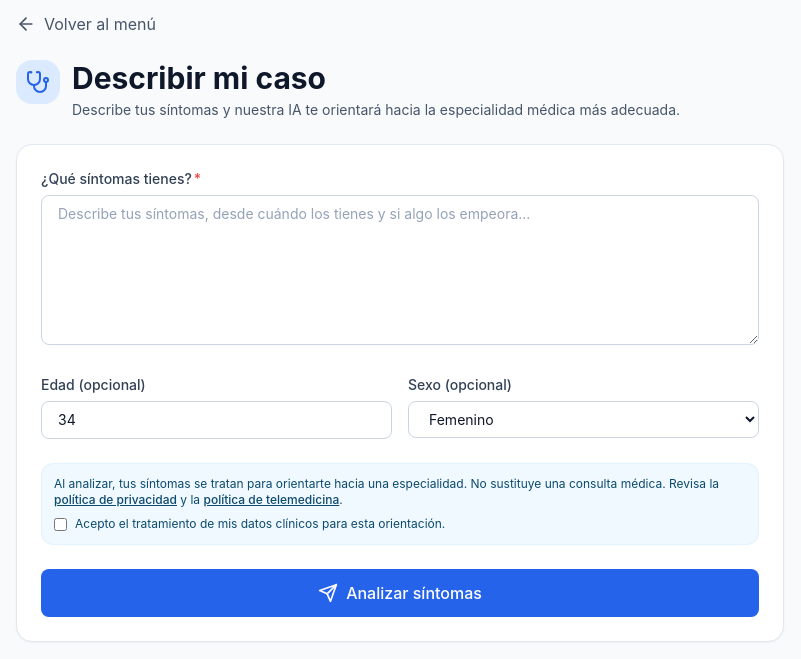
it: Triage › envía los síntomas junto con edad y sexo del perfil
Expected: the number field labelled "Edad (opcional)" holds "34", [41,401,392,439]
Type "Me duele el pecho al respirar" into the text box labelled "¿Qué síntomas tienes?*" at (400, 270), box [41,195,759,345]
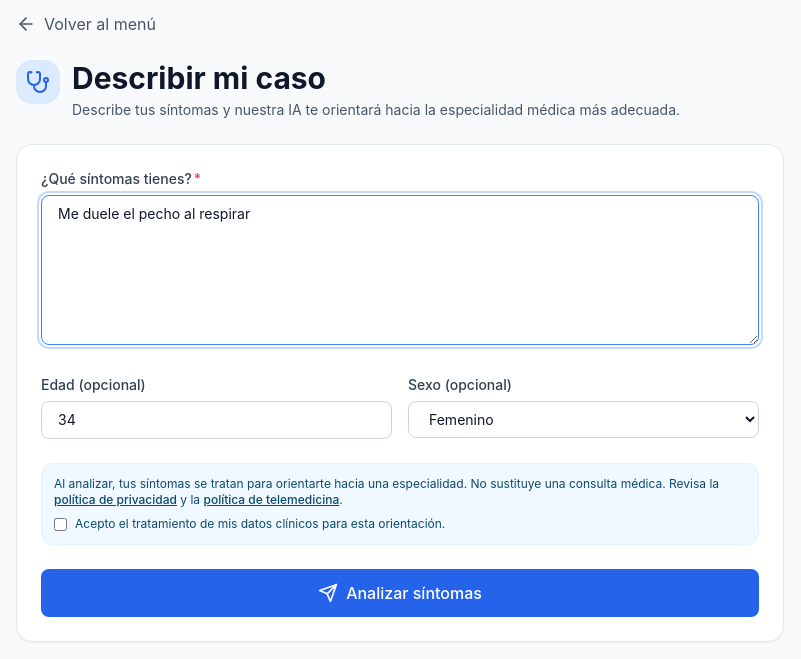
Click the checkbox labelled "datos clínicos" at (60, 524), box [54,518,67,531]
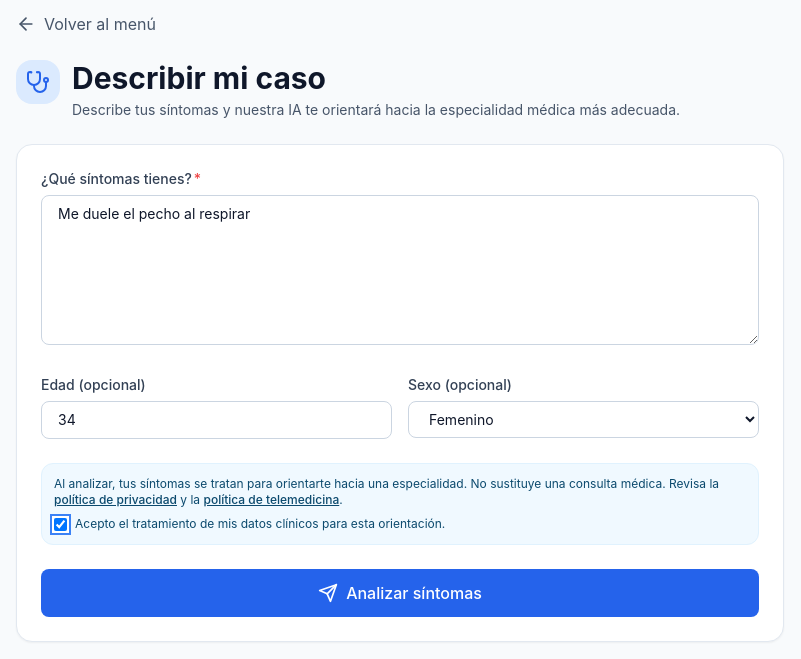
Click the button "Analizar síntomas" at (400, 593), box [41,569,759,617]
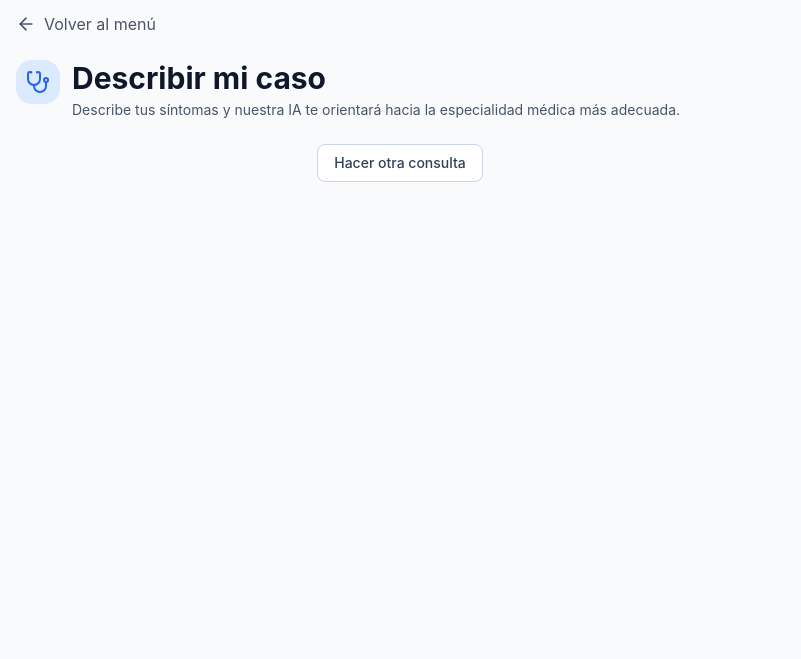
Expected: the button "Hacer otra consulta" is shown, [317,144,483,182]
